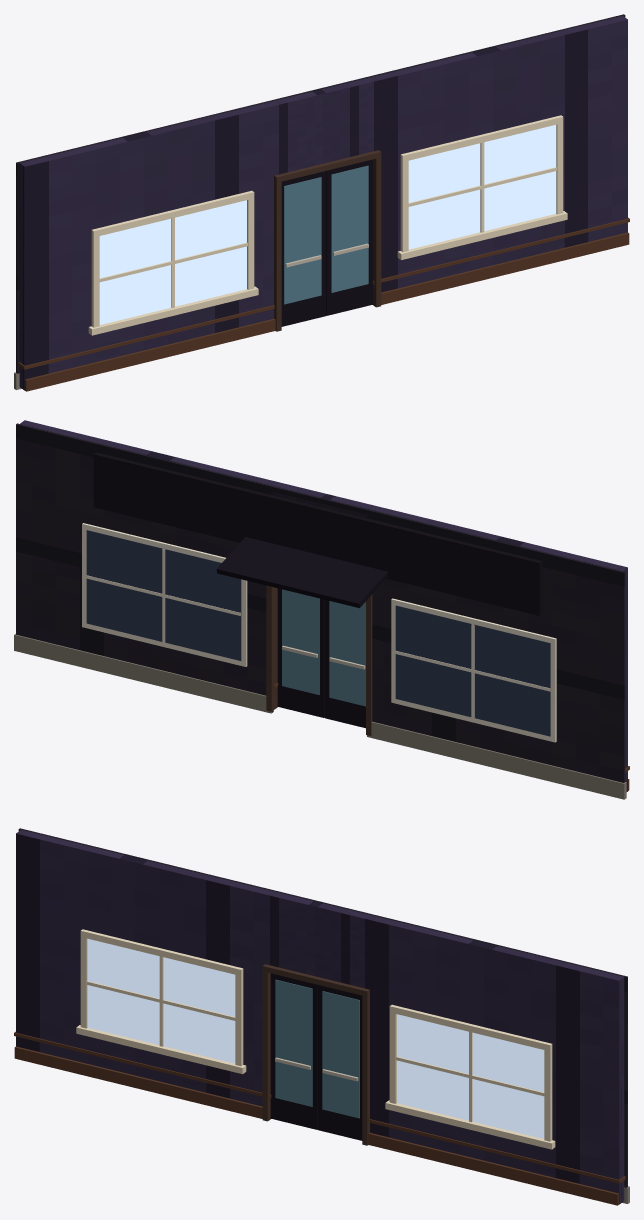
Rendered from front.glb.
3 views of the same model, one above another, from view 1: azimuth 30°, elevation 25°; view 2: azimuth 150°, elevation 25°; view 3: azimuth 330°, elevation 25° (orthographic).
Parts seen in each view (by area): view 1: Box1, Box3, Box41, Box30, Box5, Box19, Box15, Box2, Box4, Box18, Box14, Box48 (+17 smaller); view 2: Box6, Box8, Box44, Box23, Box34, Box45, Box7, Box9, Box19, Box15, Box22, Box33 (+10 smaller); view 3: Box3, Box1, Box30, Box41, Box5, Box15, Box19, Box4, Box2, Box14, Box46, Box18 (+17 smaller).
Part boxes in pixels (x1=…): Box1: x1=19, y1=101, x2=278, y2=390; Box3: x1=369, y1=16, x2=627, y2=291; Box41: x1=408, y1=125, x2=556, y2=249; Box30: x1=99, y1=200, x2=246, y2=324; Box5: x1=274, y1=78, x2=373, y2=174; Box19: x1=331, y1=165, x2=368, y2=292; Box15: x1=284, y1=177, x2=321, y2=304; Box2: x1=25, y1=319, x2=275, y2=391; Box4: x1=381, y1=232, x2=629, y2=304; Box18: x1=326, y1=159, x2=373, y2=315; Box14: x1=281, y1=171, x2=325, y2=326; Box48: x1=381, y1=223, x2=627, y2=292; Box6: x1=367, y1=509, x2=625, y2=782; Box8: x1=16, y1=423, x2=273, y2=712; Box44: x1=93, y1=452, x2=542, y2=615; Box23: x1=395, y1=605, x2=550, y2=736; Box34: x1=86, y1=530, x2=241, y2=660; Box45: x1=216, y1=537, x2=387, y2=608; Box7: x1=367, y1=721, x2=626, y2=799; Box9: x1=14, y1=633, x2=272, y2=713; Box19: x1=282, y1=589, x2=319, y2=694; Box15: x1=329, y1=601, x2=365, y2=706; Box22: x1=391, y1=598, x2=556, y2=742; Box33: x1=82, y1=523, x2=247, y2=666; Box3: x1=365, y1=915, x2=624, y2=1204; Box1: x1=16, y1=830, x2=274, y2=1105; Box30: x1=87, y1=939, x2=235, y2=1063; Box41: x1=397, y1=1014, x2=544, y2=1138; Box5: x1=270, y1=892, x2=369, y2=988; Box15: x1=275, y1=979, x2=312, y2=1106; Box19: x1=322, y1=991, x2=359, y2=1118; Box4: x1=368, y1=1133, x2=618, y2=1205; Box2: x1=14, y1=1046, x2=262, y2=1118; Box14: x1=270, y1=973, x2=317, y2=1129; Box46: x1=16, y1=1037, x2=262, y2=1106; Box18: x1=318, y1=985, x2=362, y2=1140.
Size of the model in its own units: 10.27 by 3.64 by 1.22.
12 materials, 2 textured.
